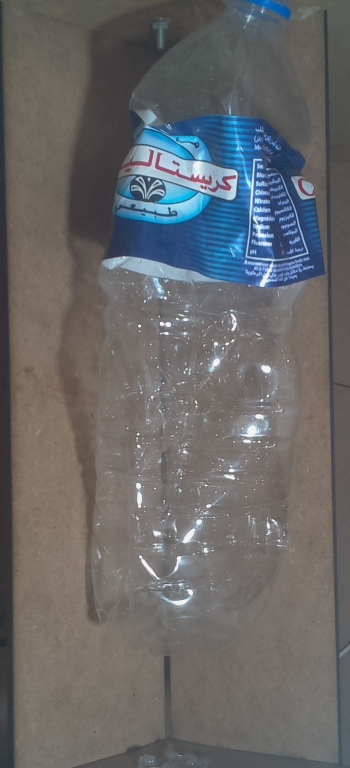Bouteille_2L: (81, 4, 333, 647)
